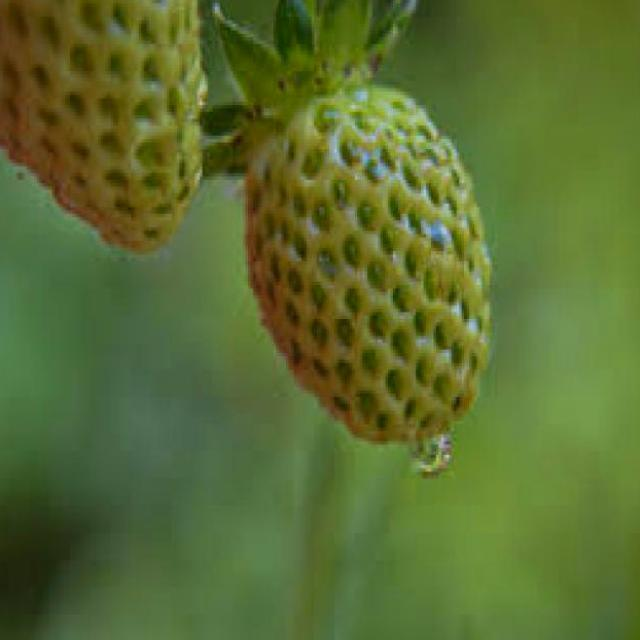Healthy Fruit: (241, 81, 493, 450)
